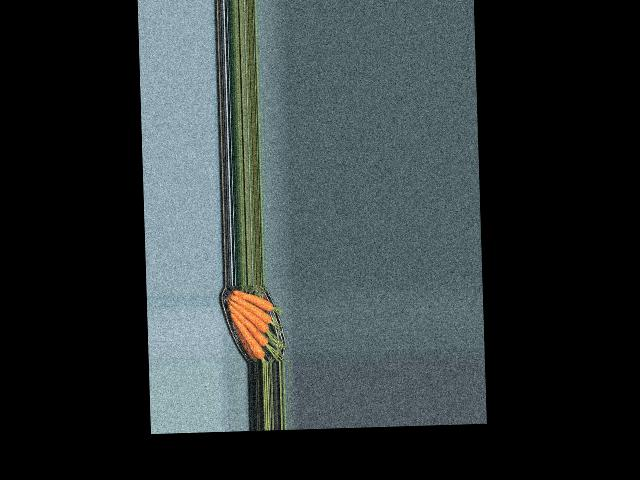carrot: (232, 288, 273, 308)
